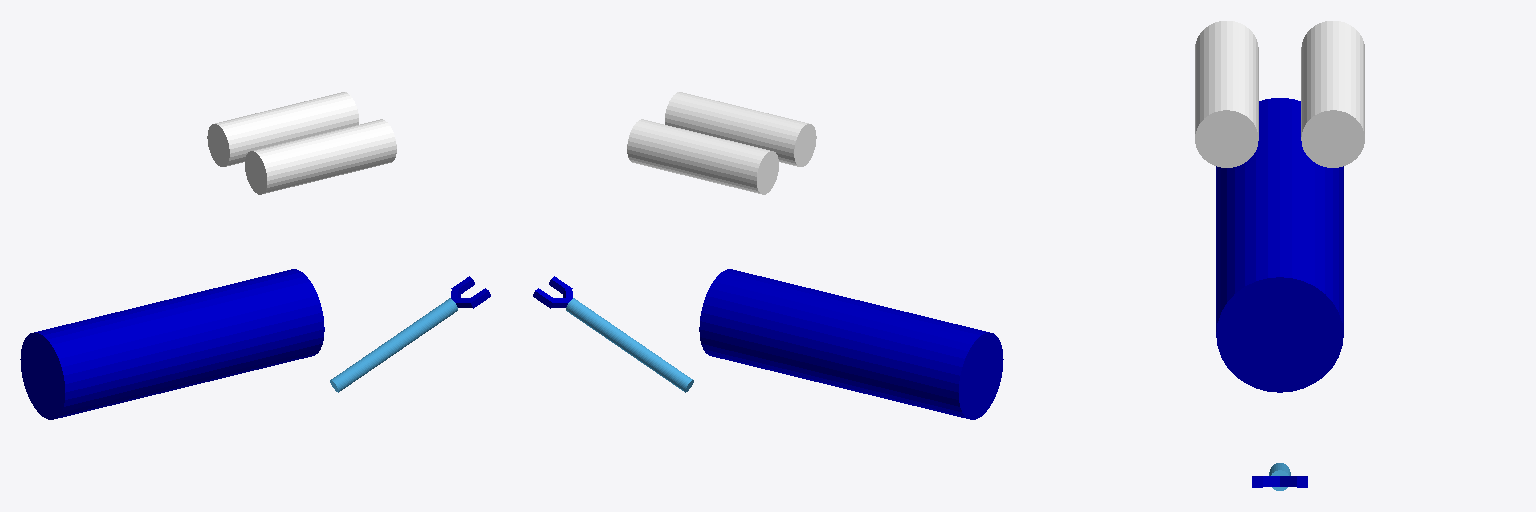
robot.urdf — myfirst:
<?xml version="1.0"?>
<robot name="myfirst">

  <material name="blue">
    <color rgba="0 0 0.8 1.0"/>
  </material>

  <material name="solidblue">
    <color rgba="0 0 1.0 1.0"/>
  </material>

  <material name="solidred">
    <color rgba="1.0 0 0.0 1.0"/>
  </material>


  <material name="white">
    <color rgba="1 1 1 1"/>
  </material>

  <material name="semi_white">
    <color rgba="1 1 1 0.4"/>
  </material>

  <link name="base_link">
    <inertial><mass value="0.0025"/><inertia ixx="0.001" ixy="0.0" ixz="0.0" iyy="0.001" iyz="0.0" izz="0.001"/></inertial>
  </link>
  <link name="cam1">
    <inertial><mass value="0.0025"/><inertia ixx="0.001" ixy="0.0" ixz="0.0" iyy="0.001" iyz="0.0" izz="0.001"/></inertial>
  </link>
  <link name="cam2">
    <inertial><mass value="0.0025"/><inertia ixx="0.001" ixy="0.0" ixz="0.0" iyy="0.001" iyz="0.0" izz="0.001"/></inertial>
  </link>
    
  <link name="main_cam">
    <inertial><mass value="0.0025"/><inertia ixx="0.001" ixy="0.0" ixz="0.0" iyy="0.001" iyz="0.0" izz="0.001"/></inertial>
  </link>

    
  <link name="COB">
    <inertial><mass value="0.0025"/><inertia ixx="0.001" ixy="0.0" ixz="0.0" iyy="0.001" iyz="0.0" izz="0.001"/></inertial>
    <visual><geometry><sphere radius="0.01"/></geometry><material name="solidblue"/></visual>
  </link>
  <link name="COM">
    <inertial><mass value="0.0025"/><inertia ixx="0.001" ixy="0.0" ixz="0.0" iyy="0.001" iyz="0.0" izz="0.001"/></inertial>
    <visual><geometry><sphere radius="0.01"/></geometry><material name="solidred"/></visual>
  </link>



  <link name="cm">
    <visual>
    <origin rpy="0 1.57 0" xyz="0 0. 0."/>
      <geometry>
        <cylinder length="0.4" radius="0.06"/>
      </geometry>
      <material name="blue"/>
    </visual>

    <inertial>
    <origin rpy="0 1.57 0" xyz="0 0. 0."/>
      <mass value="10"/>
      <inertia ixx="0.4" ixy="0.0" ixz="0.0" iyy="0.4" iyz="0.0" izz="0.4"/>
    </inertial>
  </link>

    
  <link name="right_tube">
    <visual>
    <origin rpy="0 1.57 0" xyz="0 0. 0."/>
      <geometry>
        <cylinder length="0.2" radius="0.03"/>
      </geometry>
    <material name="semi_white"/>
    </visual>
    <inertial>
    <origin rpy="0 1.57 0" xyz="0 0. 0."/>
      <mass value="0.2"/>
      <inertia ixx="0.4" ixy="0.0" ixz="0.0" iyy="0.4" iyz="0.0" izz="0.4"/>
    </inertial>
  </link>

  <link name="left_tube">
    <visual>
    <origin rpy="0 1.57 0" xyz="0 0. 0."/>
      <geometry>
        <cylinder length="0.2" radius="0.03"/>
      </geometry>
    <material name="semi_white"/>
    </visual>
    <inertial>
    <origin rpy="0 1.57 0" xyz="0 0. 0."/>
      <inertia ixx="0.4" ixy="0.0" ixz="0.0" iyy="0.4" iyz="0.0" izz="0.4"/>
      <mass value="0.2"/>
    </inertial>

  </link>


  <joint name="base_to_cm" type="fixed">
    <parent link="base_link"/>
    <child link="cm"/>
    <origin rpy="0 0 0" xyz="0 0. 0."/>
  </joint>

  <joint name="base_to_cob" type="fixed">
    <parent link="base_link"/>
    <child link="COB"/>
    <origin rpy="0 0 0" xyz="0 0. 0.03"/>
  </joint>

  <joint name="base_to_com" type="fixed">
    <parent link="base_link"/>
    <child link="COM"/>
    <origin rpy="0 0 0" xyz="0 0. -0.03"/>
  </joint>



  <joint name="base_to_cam1" type="fixed">
    <parent link="base_link"/>
    <child link="cam1"/>
    <origin rpy="0 0 0" xyz="0.2 0.05 0.09"/>
  </joint>

  <joint name="base_to_cam2" type="fixed">
    <parent link="base_link"/>
    <child link="cam2"/>
    <origin rpy="0 0 0" xyz="0.2 -0.05 0.09"/>
  </joint>

  <joint name="base_to_main_cam" type="fixed">
    <parent link="base_link"/>
    <child link="main_cam"/>
    <origin rpy="0 0 0" xyz="0.2 -0.0 0.12"/>
  </joint>

    
  <joint name="base_to_right_tube" type="fixed">
    <parent link="cm"/>
    <child link="right_tube"/>
    <origin rpy="0 0 0" xyz="0.2 0.05 0.25"/>
  </joint>

  <joint name="base_to_left_tube" type="fixed">
    <parent link="cm"/>
    <child link="left_tube"/>
    <origin rpy="0 0 0" xyz="0.2 -0.05 0.25"/>
  </joint>

    
<joint name="gripper_extension" type="fixed">
    <parent link="base_link"/>
    <child link="gripper_pole1"/>
    <origin rpy="0 -0.4 0" xyz="0.25 0.00 -0.12"/>
  </joint>

  <link name="gripper_pole1">
    <visual>
      <geometry>
        <cylinder length="0.2" radius="0.01"/>
      </geometry>
      <origin rpy="0 1.57075 0 " xyz="0.1 0 0"/>
    </visual>
          <inertial><mass value="0.0025"/><inertia ixx="0.001" ixy="0.0" ixz="0.0" iyy="0.001" iyz="0.0" izz="0.001"/></inertial>
  </link>

  <link name="gripper_pole">
    <visual>
      <geometry>
        <cylinder length="0.2" radius="0.01"/>
      </geometry>
      <origin rpy="0 1.57075 0 " xyz="0.1 0 0"/>
    </visual>
          <inertial><mass value="0.0025"/><inertia ixx="0.001" ixy="0.0" ixz="0.0" iyy="0.001" iyz="0.0" izz="0.001"/></inertial>
  </link>

<joint name="gripper_right" type="revolute">
    <parent link="gripper_pole"/>
    <child link="right_finger"/>
    <limit effort="1000.0" lower="0.0" upper="0.748" velocity="0.5"/>
    <axis xyz="0 0 1"/>
    <origin rpy="0 0 -1" xyz="0.21 -0.01 -0.0"/>
</joint>

    
  <link name="right_finger">
    <visual>
      <origin rpy="0 0 0" xyz="0 0 0"/>
      <geometry>
        <box size="0.03 0.01 0.01"/>
      </geometry>
        <material name="blue"/>
    </visual>
          <inertial><mass value="0.0025"/><inertia ixx="0.001" ixy="0.0" ixz="0.0" iyy="0.001" iyz="0.0" izz="0.001"/></inertial>
   <collision><origin xyz="0 0 0" rpy="0 0 0"/><geometry><box size="0.03 0.01 0.01"/></geometry></collision>
            <contact><rolling_friction value="0.001"/><spinning_friction value="0.001"/></contact>

    </link>
<joint name="gripper_right2" type="fixed">
    <parent link="right_finger"/>
    <child link="right_finger2"/>
    <origin rpy="0 0 1" xyz="0.02 0.01 -0.0"/>
</joint>

  <link name="right_finger2">
    <visual>
      <origin rpy="0 0 0" xyz="0 0 0"/>
      <geometry>
        <box size="0.03 0.01 0.01"/>
      </geometry>
        <material name="blue"/>
    </visual>
      <collision><origin xyz="0 0 0" rpy="0 0 0"/><geometry><box size="0.03 0.01 0.01"/></geometry></collision>
          <inertial><mass value="0.0025"/><inertia ixx="0.001" ixy="0.0" ixz="0.0" iyy="0.001" iyz="0.0" izz="0.001"/></inertial>
            <contact><rolling_friction value="0.001"/><spinning_friction value="0.001"/></contact>

  </link>

    <joint name="gripper_left" type="revolute" >
    <parent link="gripper_pole"/>
    <child link="left_finger"/>
    <limit effort="1000.0" lower="0.0" upper="0.748" velocity="0.5"/>
    <axis xyz="0 0 1"/>
    <origin rpy="3.1415 0 1" xyz="0.21 0.01 -0.0"/>
</joint>

  <link name="left_finger">
    <visual>
      <origin rpy="0 0 0" xyz="0 0 0"/>
      <geometry>
        <box size="0.03 0.01 0.01"/>
      </geometry>
        <material name="blue"/>
    </visual>
          <inertial><mass value="0.0025"/><inertia ixx="0.001" ixy="0.0" ixz="0.0" iyy="0.001" iyz="0.0" izz="0.001"/></inertial>
      <collision><origin xyz="0 0 0" rpy="0 0 0"/><geometry><box size="0.03 0.01 0.01"/></geometry></collision>
      <contact><rolling_friction value="0.001"/><spinning_friction value="0.001"/></contact>
 
  </link>
<joint name="gripper_left2" type="fixed">
    <parent link="left_finger"/>
    <child link="left_finger2"/>
    <origin rpy="0 0 1" xyz="0.02 0.01 -0.0"/>
</joint>

  <link name="left_finger2">
    <visual>
      <origin rpy="0 0 0" xyz="0 0 0"/>
      <geometry>
        <box size="0.03 0.01 0.01"/>
      </geometry>
        <material name="blue"/>
    </visual>
          <inertial><mass value="0.0025"/><inertia ixx="0.001" ixy="0.0" ixz="0.0" iyy="0.001" iyz="0.0" izz="0.001"/></inertial>
      <collision><origin xyz="0 0 0" rpy="0 0 0"/><geometry><box size="0.03 0.01 0.01"/></geometry></collision>
            <contact><rolling_friction value="0.001"/><spinning_friction value="0.001"/></contact>

  </link>

  <joint name="gripper_pole_rotate" type="revolute">
    <parent link="gripper_pole1"/>
    <child link="gripper_pole"/>
        <limit effort="1000.0" lower="-4" upper="4" velocity="0.5"/>
    <axis xyz="1 0 0"/>
    <origin rpy="0 0 0" xyz="0.0 0.00 -0.0"/>
  </joint>

    
</robot>

--- Render facts (derived) ---
3 views of the same robot in one strip: view 1: azimuth 30°, elevation 25°; view 2: azimuth 150°, elevation 25°; view 3: azimuth 270°, elevation 25° (orthographic).
Robot: myfirst — 15 links, 14 joints (3 revolute, 11 fixed); root link base_link; default pose: every joint at zero.
Visible links, largest first — view 1: cm, left_tube, right_tube, gripper_pole1; view 2: cm, right_tube, left_tube, gripper_pole1; view 3: cm, right_tube, left_tube.
Link boxes in pixels (x1,y1,x2,y2): cm: (20,269,324,419); left_tube: (245,119,396,194); right_tube: (207,92,358,166); gripper_pole1: (330,298,457,392); cm: (699,269,1003,419); right_tube: (627,119,778,194); left_tube: (665,92,816,166); gripper_pole1: (566,298,693,392); cm: (1216,98,1343,392); right_tube: (1301,21,1364,167); left_tube: (1195,21,1258,167).
Bounding box of the posed robot: 0.6769 × 0.16 × 0.4093 m (x, y, z).
Geometry: primitives only (box / cylinder / sphere), no mesh files.
